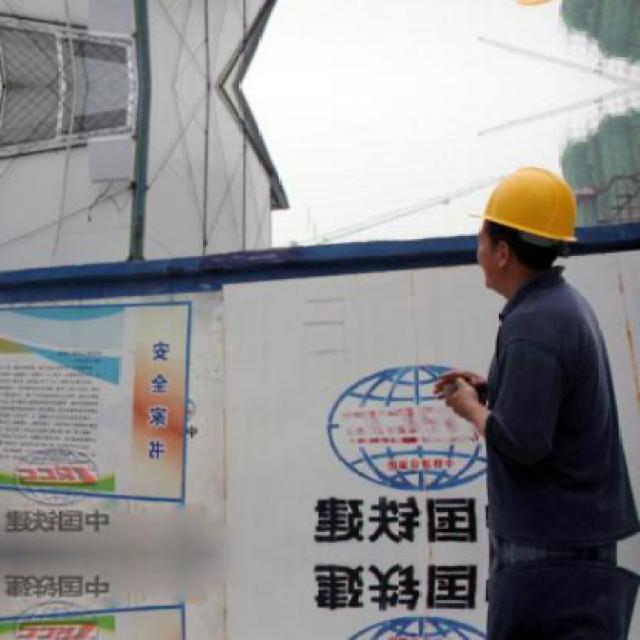helmet: (470, 151, 584, 304)
